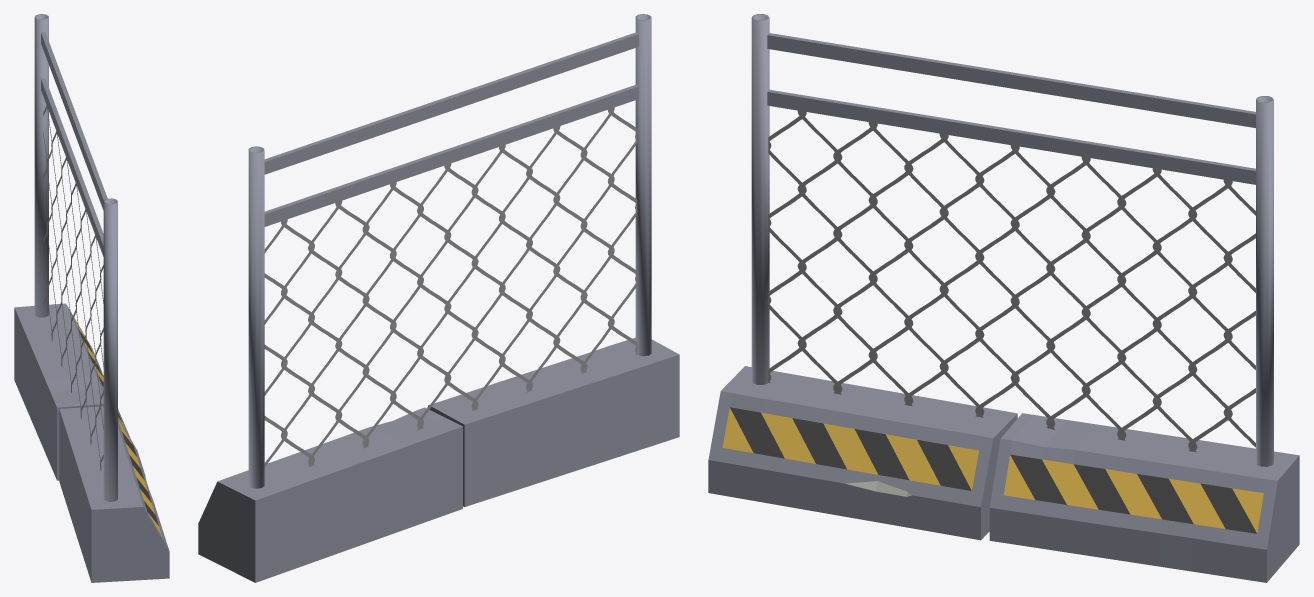
File: Barrier_Large_Obs.fbx
3 views of the same model, side by side, from view 1: azimuth 30°, elevation 25°; view 2: azimuth 150°, elevation 25°; view 3: azimuth 270°, elevation 25° (orthographic). The views are drawn at different scales.
Visible parts, largest first — view 1: Barrier_Large.001; view 2: Barrier_Large.001; view 3: Barrier_Large.001.
Part boxes in pixels (<box>): Barrier_Large.001: <box>14,14,169,582</box>; Barrier_Large.001: <box>198,14,679,582</box>; Barrier_Large.001: <box>708,14,1299,582</box>.
Bounding box in the file's own units: 57.68 × 95.5 × 113.
Materials: 5 (1 with a texture image).
